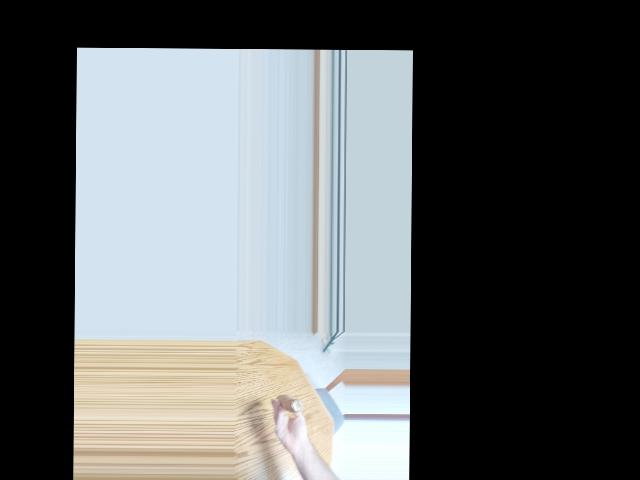sweet_potato: (275, 393, 306, 417)
